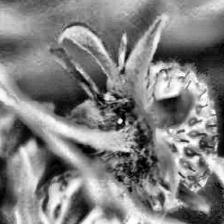Gray Mold: (45, 48, 210, 224)
